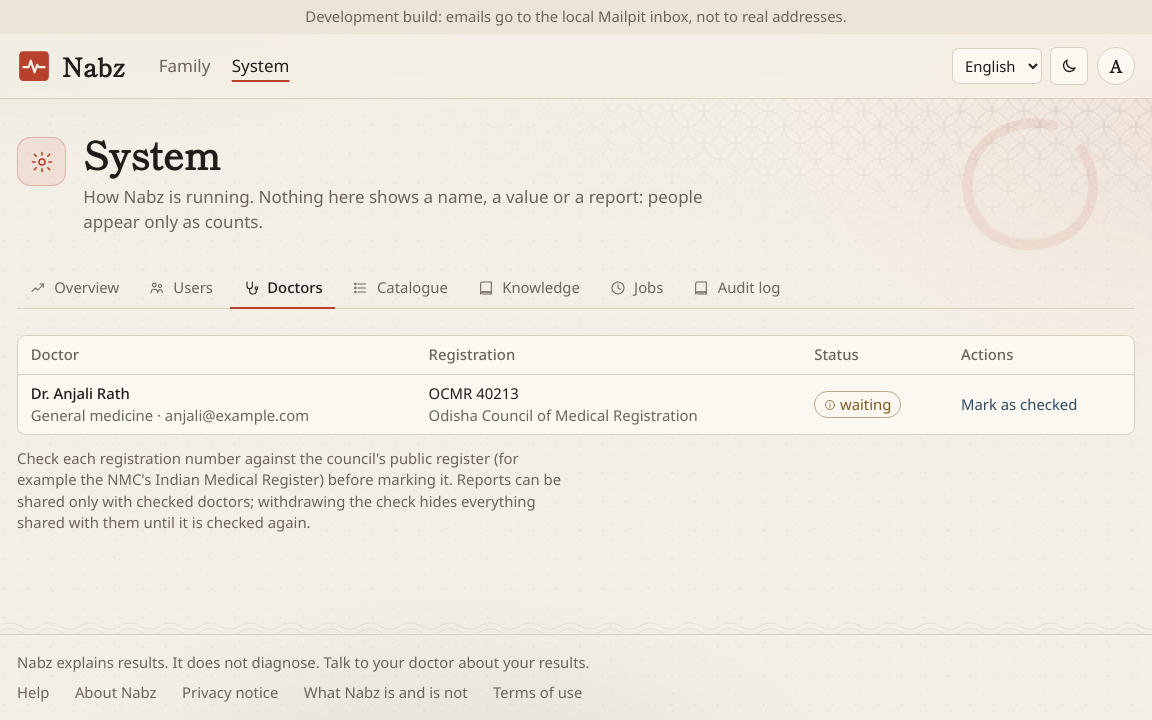
Test case: checking a doctor's registration › lets an admin mark a registration as checked
Expected: the text "waiting" is shown, [814,391,901,418]
Click the button "Mark as checked" at (1019, 405), box [961,394,1077,415]
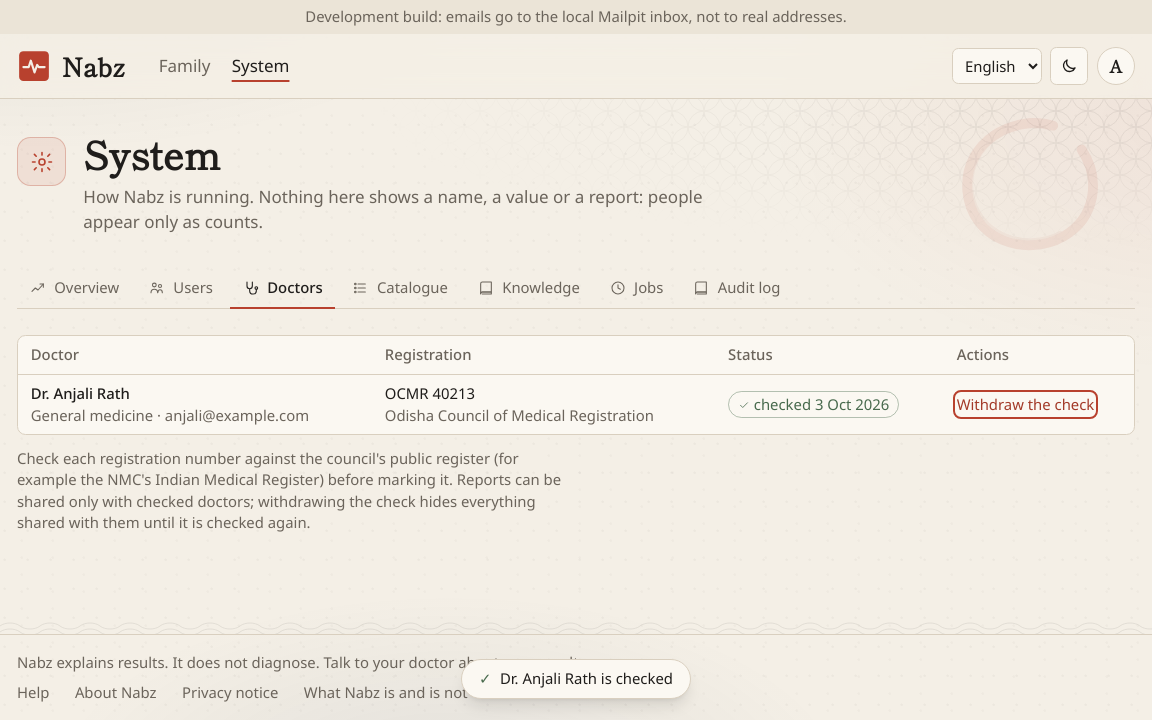
Expected: the text "checked 3 Oct 2026" is shown, [728,391,899,418]
Expected: the button "Withdraw the check" is shown, [957,394,1094,415]
